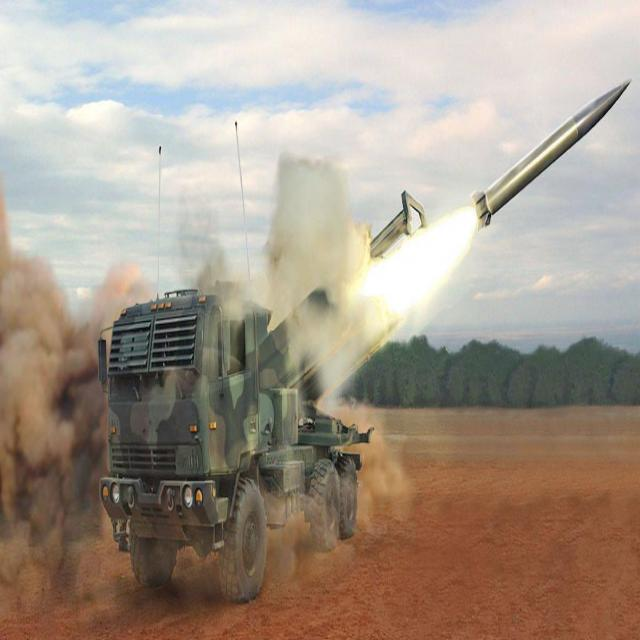rocket: (401, 70, 631, 298)
